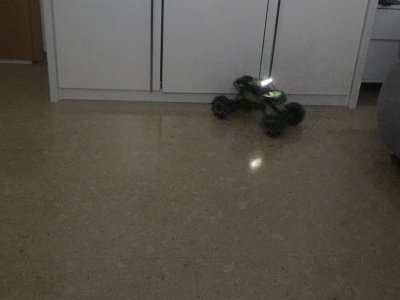remote control car: (210, 73, 307, 138)
